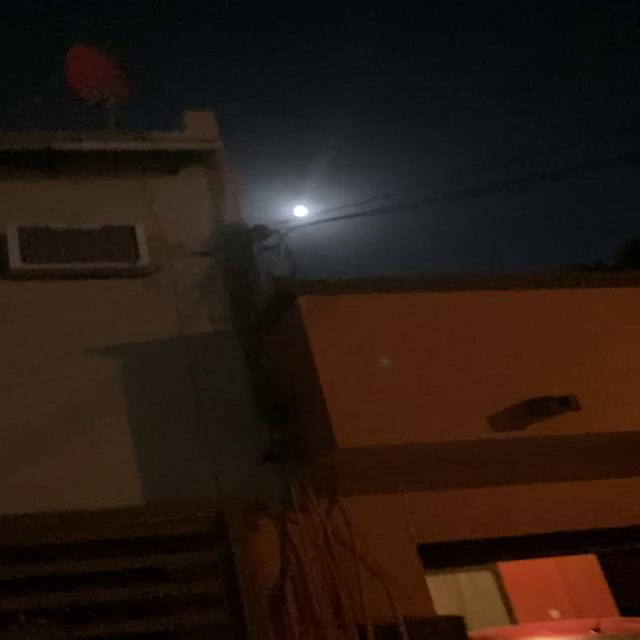moon: (278, 194, 324, 224)
